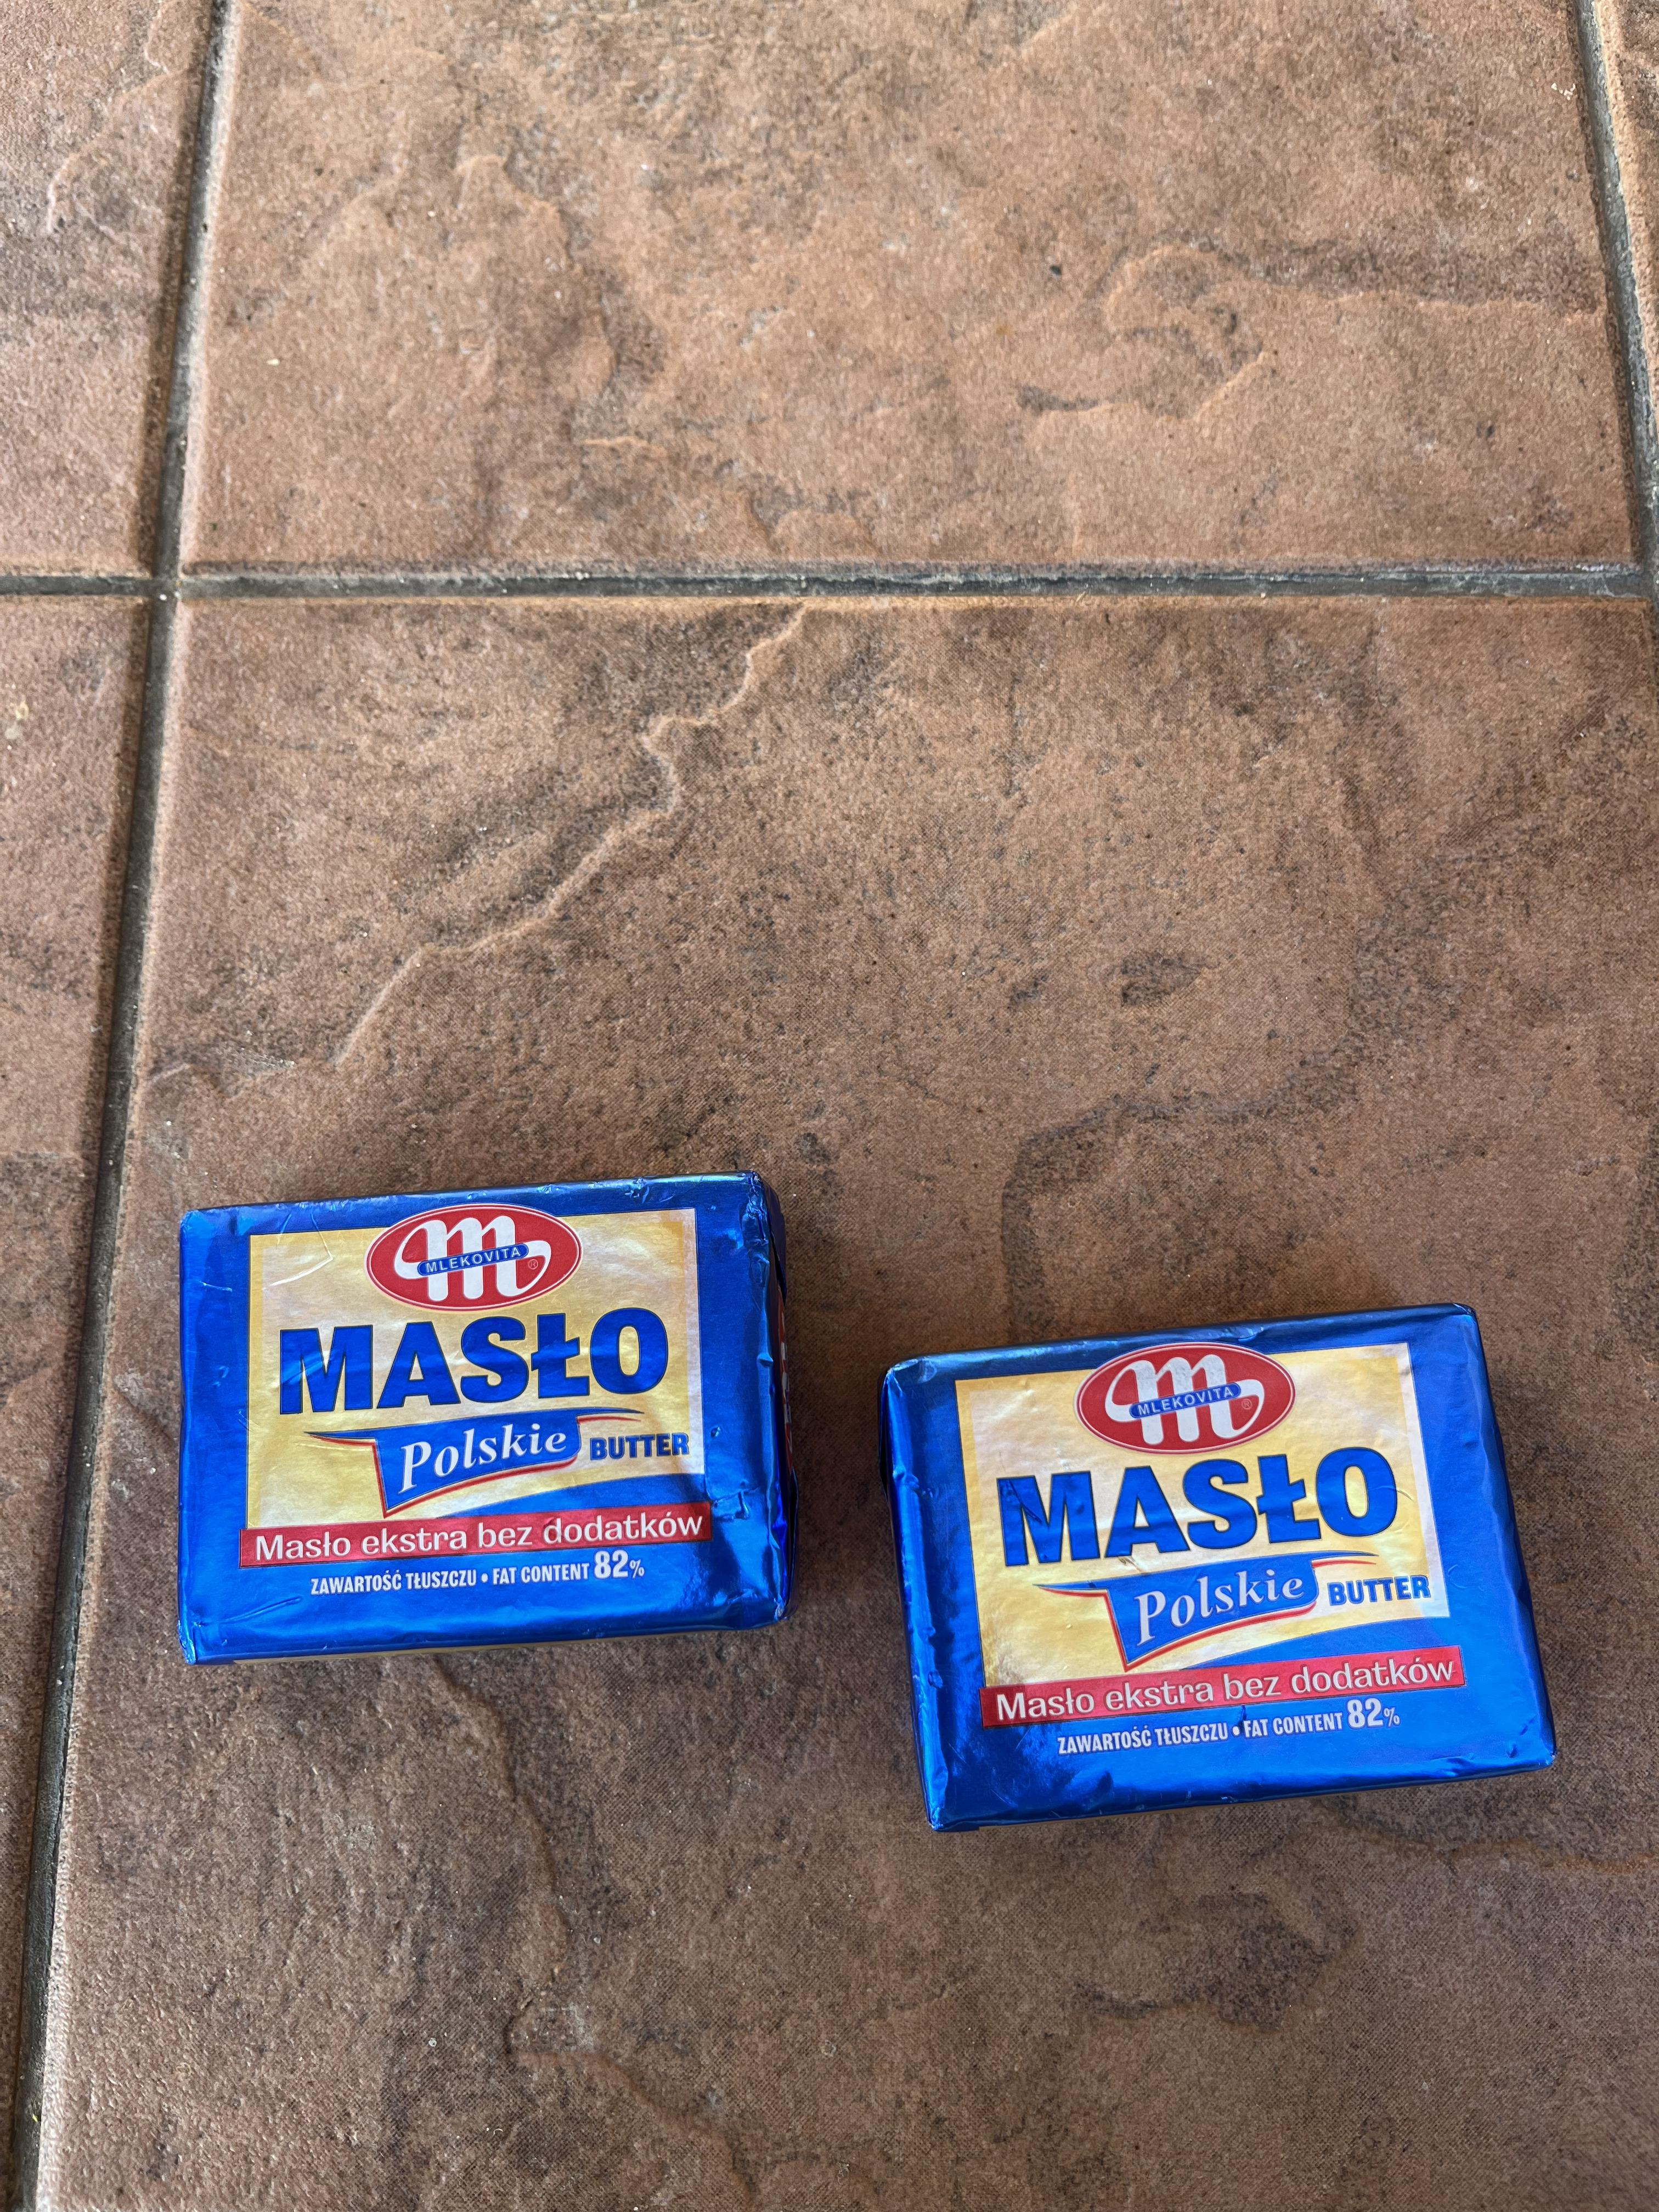Butter: (894, 1318, 1589, 1799), (183, 1172, 800, 1639)
